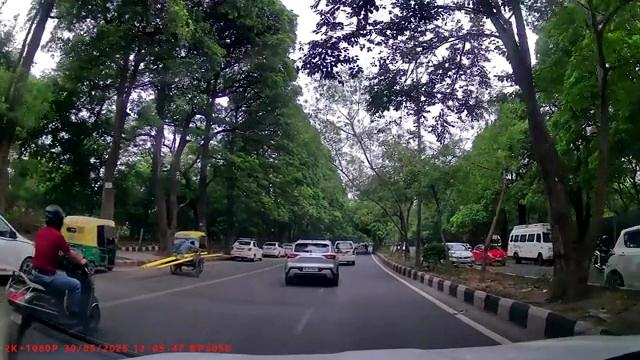motorcycle_with_helmet: (3, 207, 103, 336)
